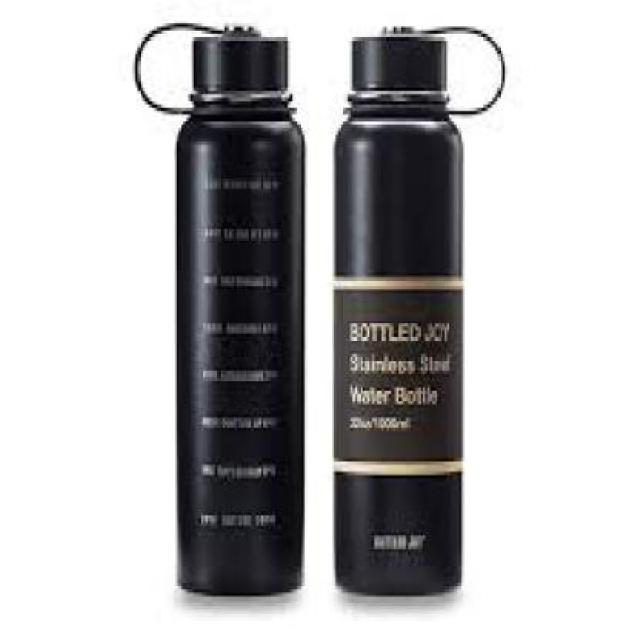Drinking: (323, 13, 483, 613), (163, 27, 314, 607)
